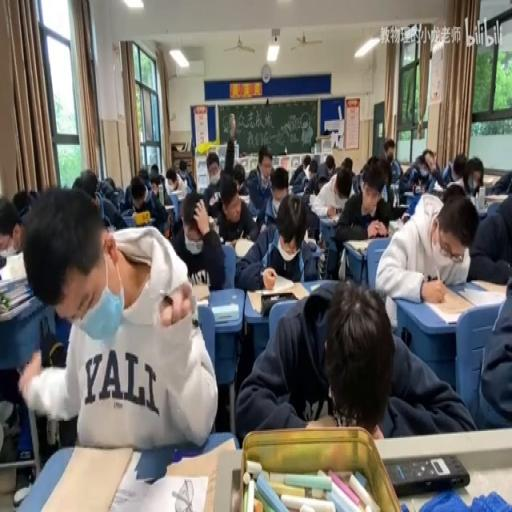calculator: (110, 456, 210, 512), (422, 284, 475, 323), (249, 282, 307, 312), (212, 302, 238, 324), (0, 274, 27, 294), (470, 278, 506, 292), (233, 236, 254, 258), (188, 280, 210, 300), (346, 238, 371, 253), (166, 188, 186, 202), (485, 193, 507, 205), (476, 202, 489, 219), (310, 240, 323, 256), (387, 219, 401, 233), (236, 193, 250, 205), (431, 188, 445, 199), (224, 238, 238, 248), (290, 188, 306, 196), (310, 282, 323, 290), (403, 190, 416, 198), (164, 204, 174, 210)
paper: (16, 186, 212, 452), (235, 279, 470, 441), (0, 200, 34, 467), (475, 270, 512, 428), (166, 189, 224, 289), (334, 164, 394, 244), (467, 182, 512, 284), (214, 171, 258, 243), (124, 174, 170, 233), (260, 161, 298, 230), (400, 148, 438, 196), (214, 129, 240, 182), (439, 151, 471, 189), (382, 141, 404, 195), (314, 151, 339, 193), (98, 194, 126, 230), (289, 156, 311, 194), (72, 171, 98, 199), (486, 168, 511, 195), (386, 186, 406, 219), (176, 158, 195, 192), (12, 188, 32, 218), (305, 204, 320, 238), (362, 155, 380, 176), (232, 165, 246, 192), (334, 176, 350, 199), (206, 152, 220, 172), (108, 186, 122, 202), (350, 172, 360, 194), (102, 175, 116, 189), (166, 209, 172, 238), (342, 155, 352, 171), (280, 155, 290, 169), (149, 164, 158, 179), (166, 174, 175, 189), (29, 189, 40, 201), (138, 168, 148, 180), (400, 213, 410, 225), (308, 162, 317, 175)
person: (384, 452, 470, 496), (132, 208, 150, 224)
